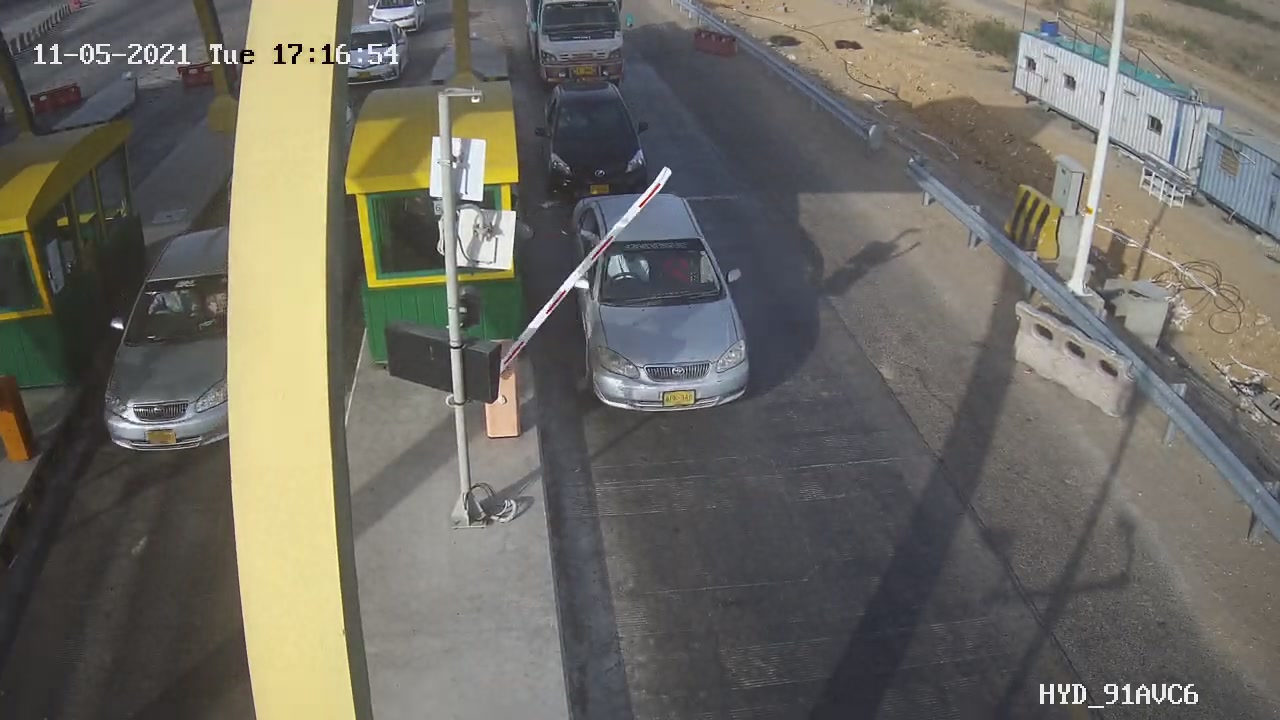F1: (542, 178, 776, 430), (520, 69, 670, 218)
